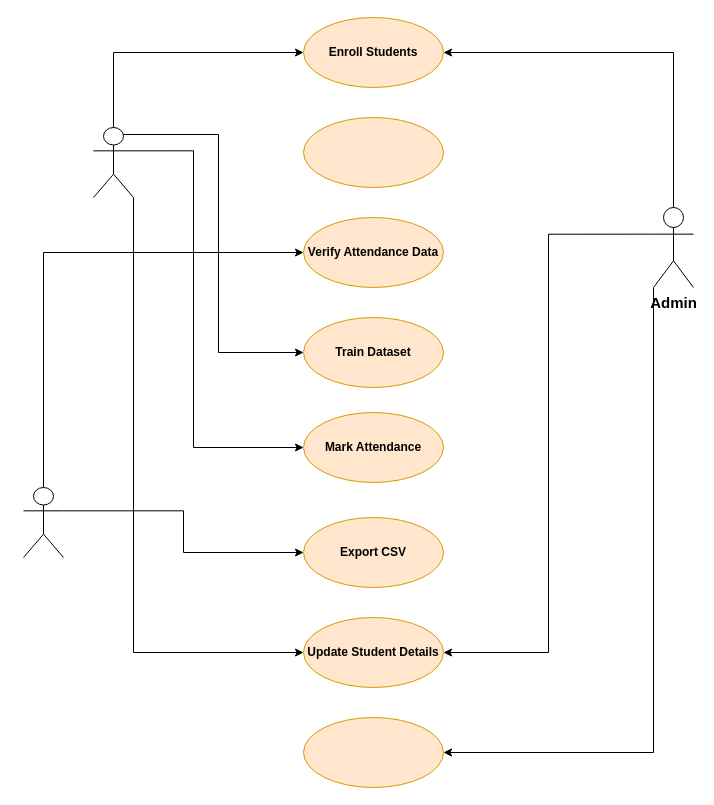
Image size: 714x805. Some labels were removed from this diagram. The shapes that lost their labels are listed below. From the top down, each one's centre as x and y in pixels, then its label:
At (113,162): "Student".
At (373,152): "Upload Photo Sample".
At (43,522): "Faculty".
At (373,752): "Provide Access Rights".
